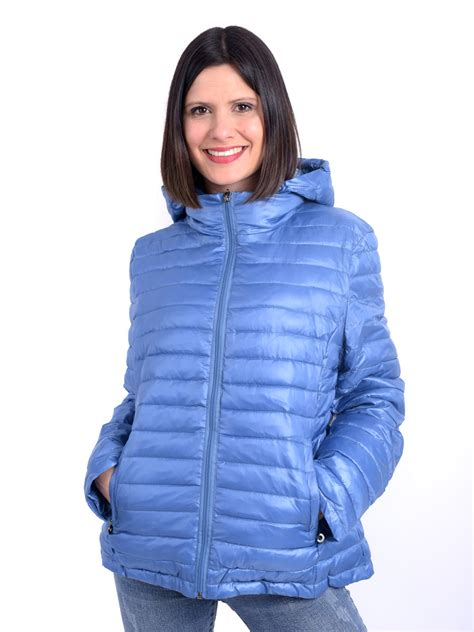nylon: (84, 159, 407, 600)
